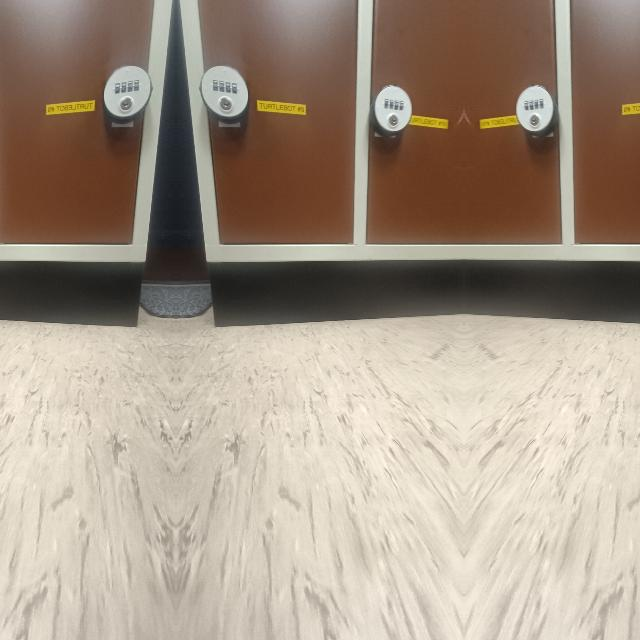obstacle: (180, 28, 464, 328), (463, 28, 640, 328), (0, 28, 170, 328)
